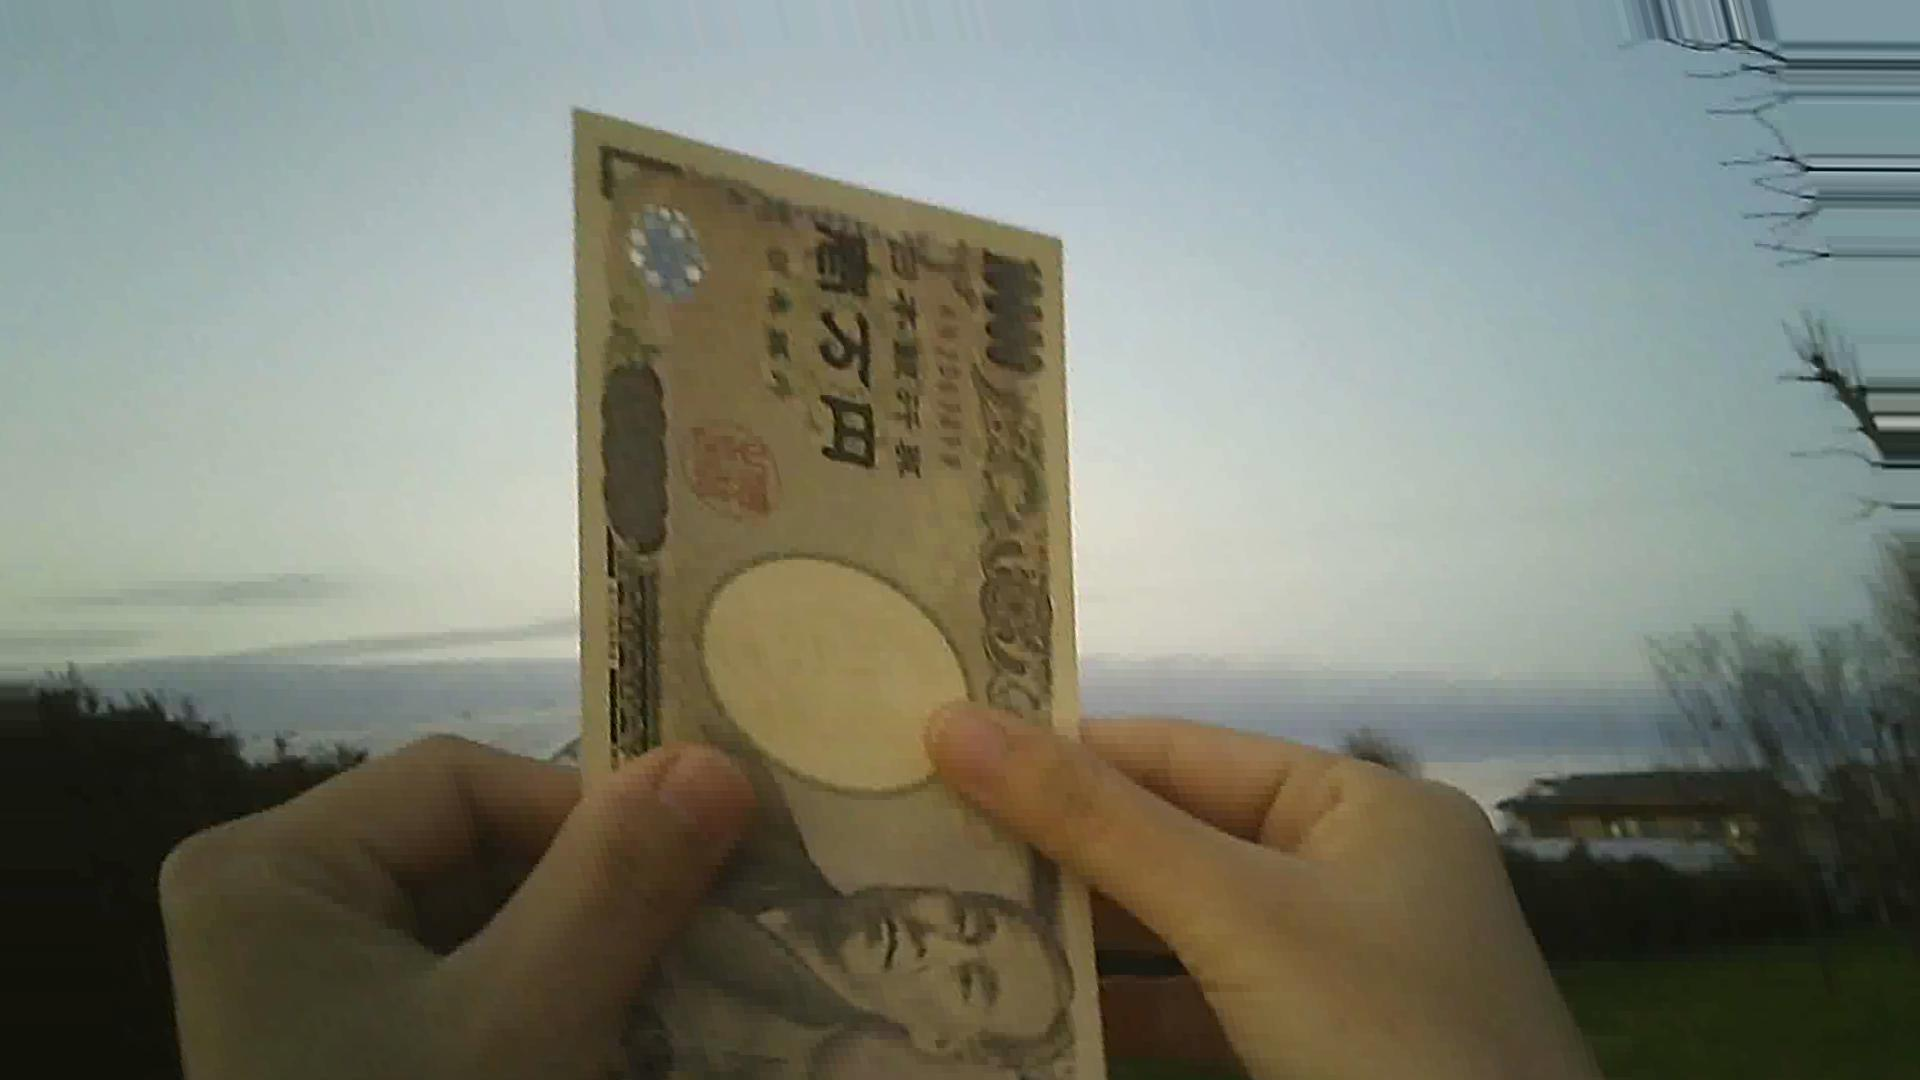10,000 Yen: (533, 94, 1120, 1077)
